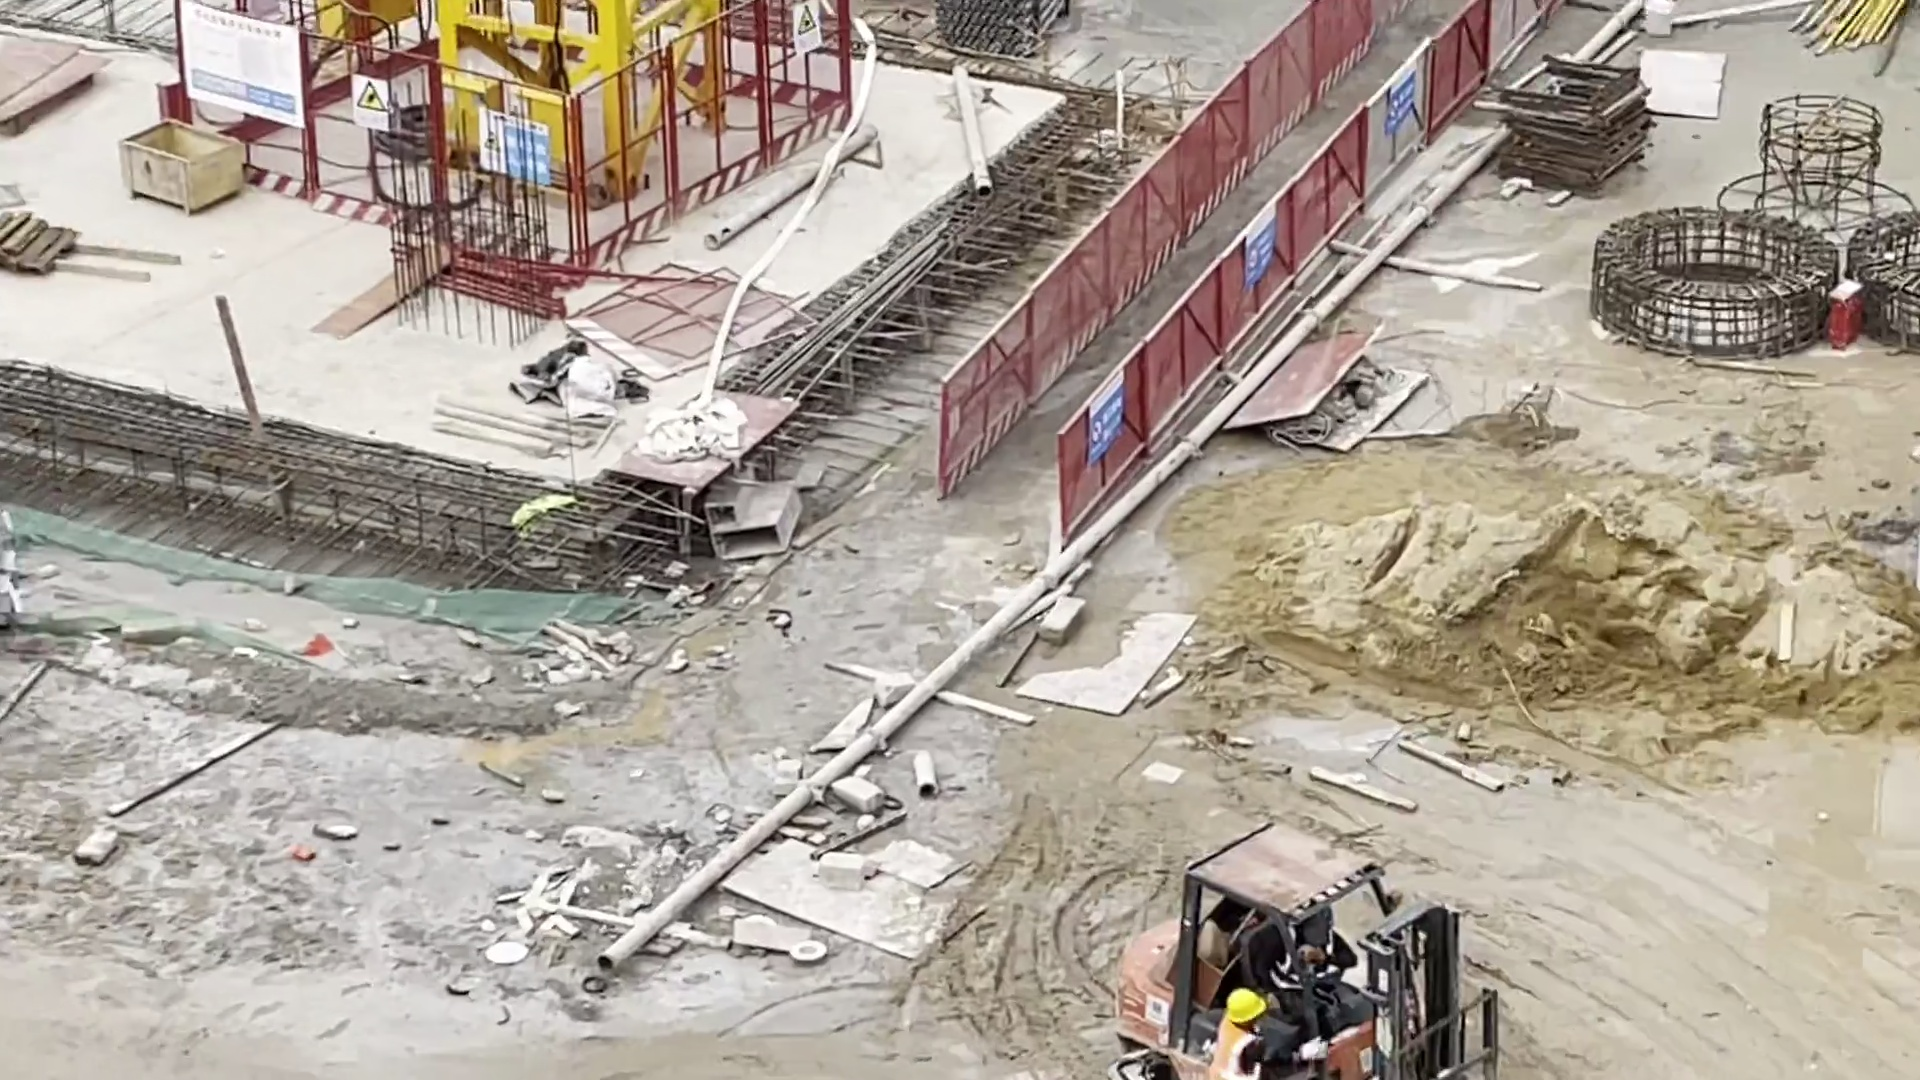fence: (932, 2, 1547, 545)
helmet: (1225, 991, 1265, 1021), (1308, 907, 1333, 928)
hopper: (118, 114, 247, 220)
person: (1247, 912, 1358, 1035), (1212, 983, 1276, 1080)
slogan: (182, 8, 308, 131), (479, 105, 556, 190), (1088, 369, 1122, 469), (351, 73, 393, 133), (1246, 206, 1273, 288), (1387, 65, 1414, 134), (791, 5, 821, 51)
vest: (1216, 1019, 1261, 1080)
